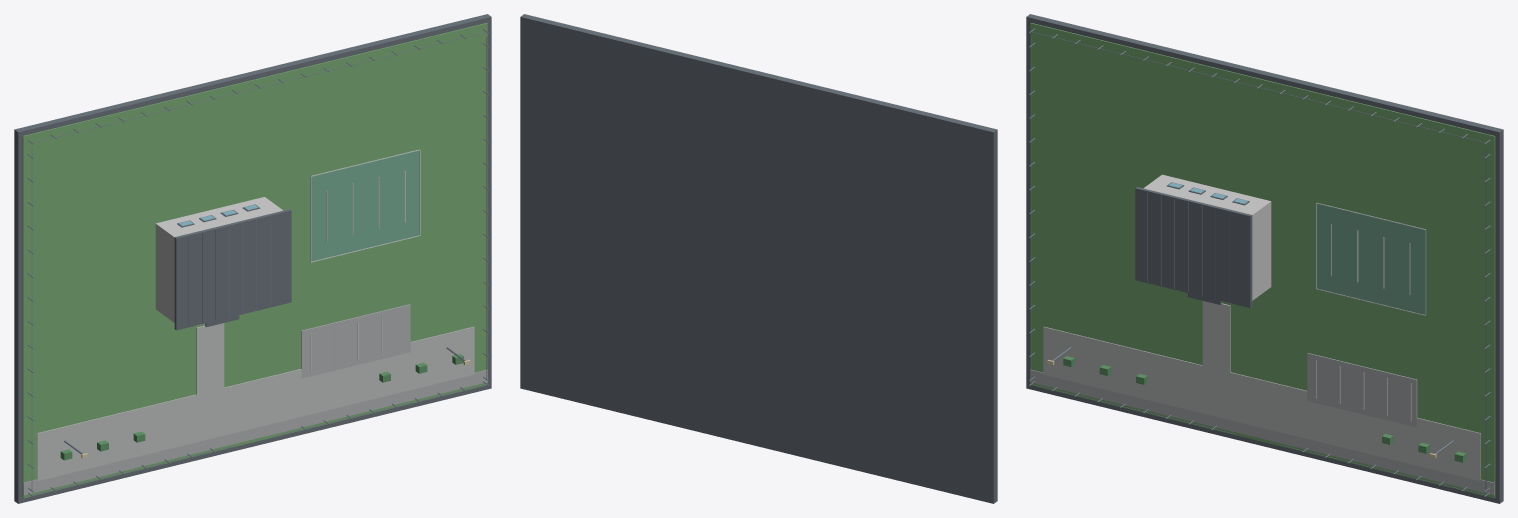
Rendered from medical_centre_level_1.glb.
The picture shows the model from 3 angles, left to right: view 1: azimuth 30°, elevation 25°; view 2: azimuth 150°, elevation 25°; view 3: azimuth 330°, elevation 25°; orthographic projection.
Parts seen in each view (by area): view 1: land_1, forecourt_2, base_slab_0, dark_roof_5, rehab_field_36, access_road_3, parking_45, clinic_walls_4, path_35, fence_rail_169, fence_rail_153; view 2: base_slab_0; view 3: land_1, forecourt_2, base_slab_0, dark_roof_5, rehab_field_36, access_road_3, parking_45, clinic_walls_4, path_35, fence_rail_153, fence_rail_169.
Part boxes in pixels (x1,y1,x2,y2): land_1: (22,23,487,498); forecourt_2: (37,326,474,480); base_slab_0: (14,14,491,503); dark_roof_5: (174,209,291,330); rehab_field_36: (310,149,419,261); access_road_3: (23,369,487,495); parking_45: (301,304,410,378); clinic_walls_4: (155,197,282,322); path_35: (196,323,224,394); fence_rail_169: (486,37,487,378); fence_rail_153: (31,148,32,489); base_slab_0: (520,14,997,503); land_1: (1030,23,1495,498); forecourt_2: (1043,326,1480,480); base_slab_0: (1026,14,1503,503); dark_roof_5: (1135,187,1252,308); rehab_field_36: (1317,202,1426,314); access_road_3: (1030,369,1494,495); parking_45: (1307,353,1417,427); clinic_walls_4: (1143,174,1271,300); path_35: (1202,301,1230,372); fence_rail_153: (1030,37,1031,378); fence_rail_169: (1485,148,1486,489).
Size of the model in its own units: 52 by 39 by 5.46.
